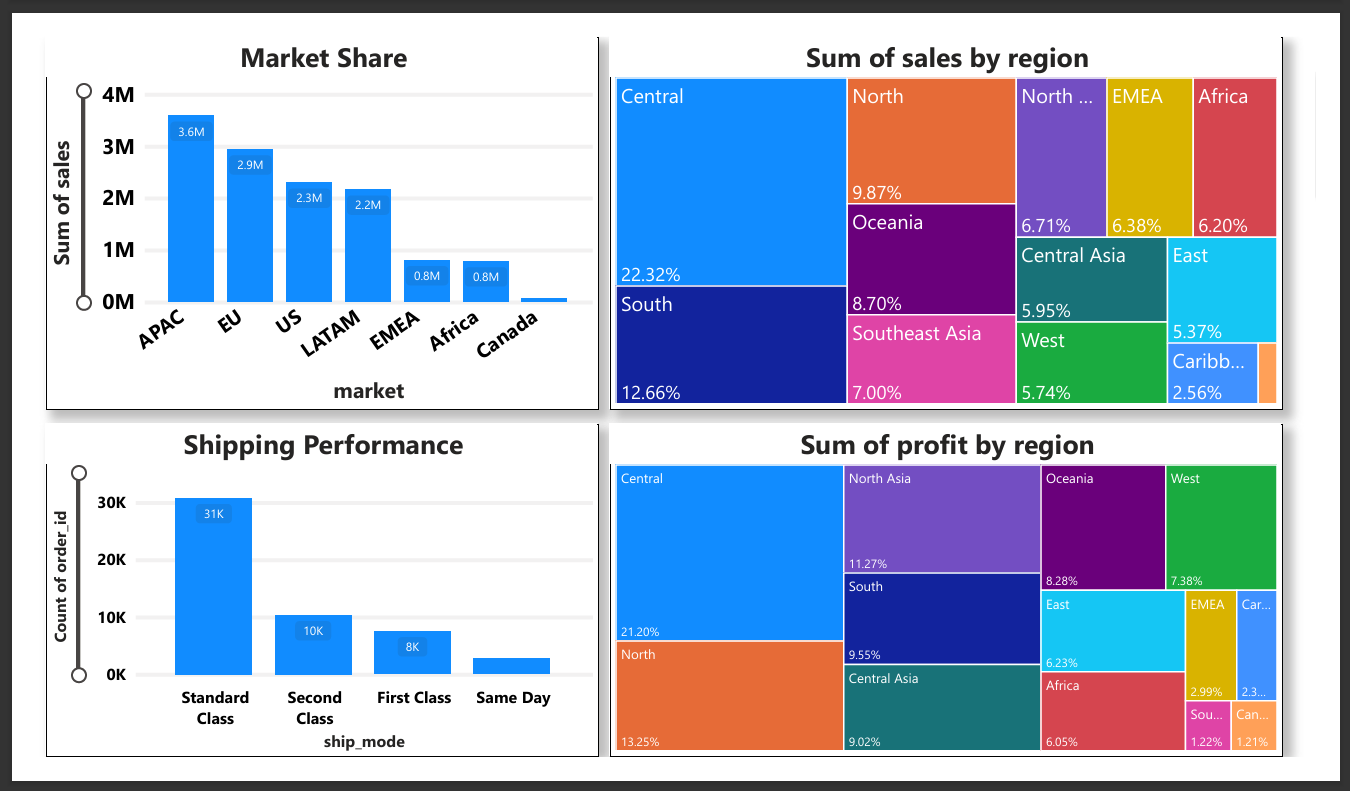

The page's visual inventory and layout, read from the dashboard file:
{"tool":"powerbi","page":{"name":"Market and Regional analysis","canvas":[1280,720],"ordinal":3},"visuals":[{"type":"clusteredColumnChart","title":"Market Share","fields":{"Category":["Analysed_super_sales.market"],"Y":["Sum(Analysed_super_sales.sales)"]},"box":[9.6,0,553,373.2],"z":0},{"type":"clusteredColumnChart","title":"Shipping Performance","fields":{"Category":["Analysed_super_sales.ship_mode"],"Y":["CountNonNull(Analysed_super_sales.order_id)"]},"box":[9.6,387,553,333.4],"z":1000},{"type":"treemap","title":"Sum of sales by region","fields":{"Values":["Sum(Analysed_super_sales.sales)"],"Group":["Analysed_super_sales.region"]},"box":[573.6,0,673.8,373.2],"z":2000},{"type":"treemap","title":"Sum of profit by region","fields":{"Values":["Sum(Analysed_super_sales.profit)"],"Group":["Analysed_super_sales.region"]},"box":[573.6,387,673.8,333.4],"z":3000}]}

Visuals, with their boxes in screenshot pixels (x1, y1, x2, y2):
"Market Share" clusteredColumnChart: bbox(3, 4, 600, 406)
"Shipping Performance" clusteredColumnChart: bbox(3, 421, 600, 780)
"Sum of sales by region" treemap: bbox(612, 4, 1338, 406)
"Sum of profit by region" treemap: bbox(612, 421, 1338, 780)
